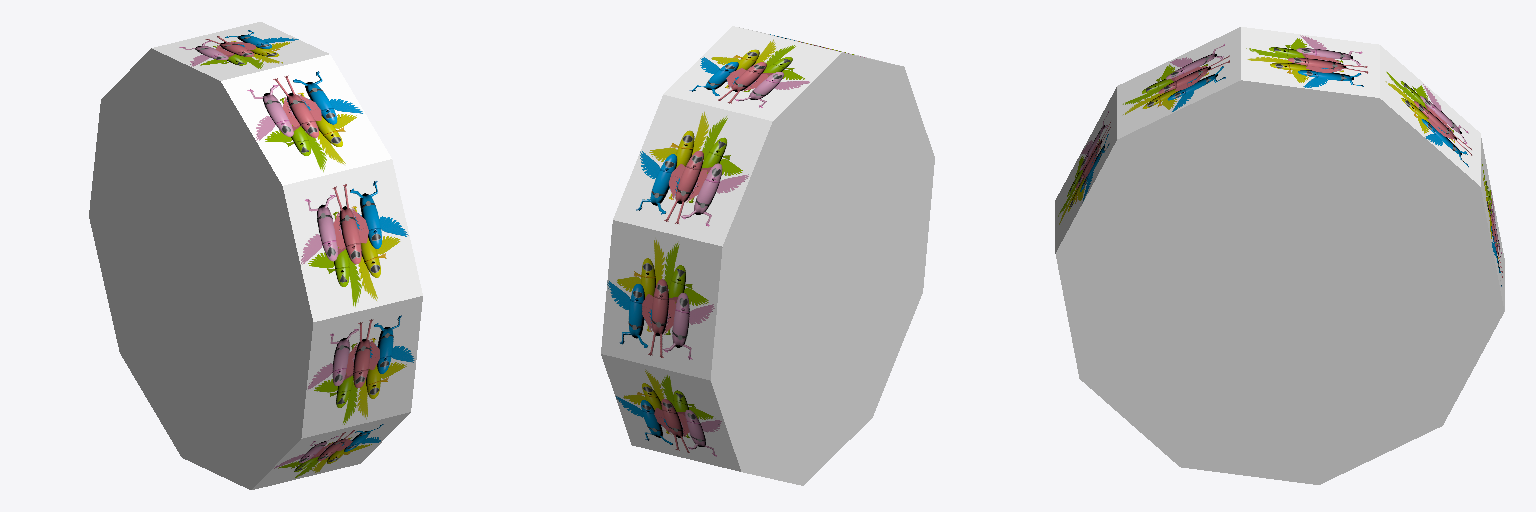
The picture shows the model from 3 angles: view 1: azimuth 30°, elevation 25°; view 2: azimuth 150°, elevation 25°; view 3: azimuth 270°, elevation 25°; orthographic projection.
Visible parts, largest first — view 1: pCylinder1; view 2: pCylinder1; view 3: pCylinder1.
Part boxes in pixels (x1,y1,x2,y2): pCylinder1: (89,22,422,489); pCylinder1: (601,26,934,485); pCylinder1: (1055,27,1504,484).
Size of the model in its own units: 0.3729 by 1.32 by 1.32.
Materials: 1 (1 with a texture image).